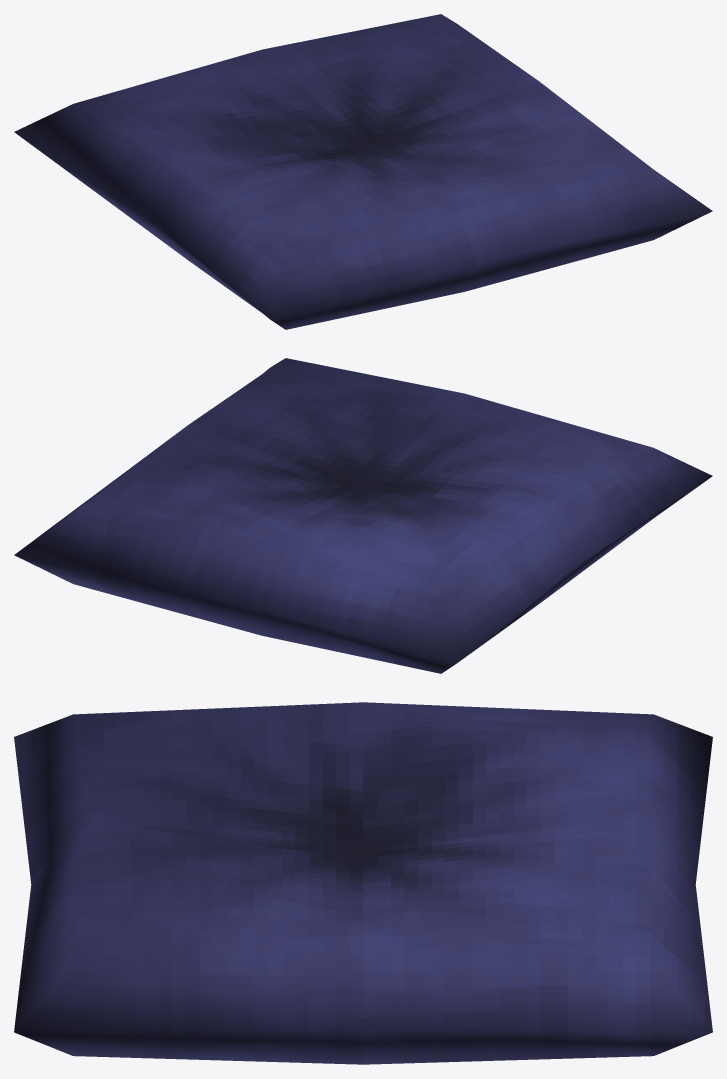
Rendered from zabuton.fbx.
The picture shows the model from 3 angles, top to bottom: view 1: azimuth 30°, elevation 25°; view 2: azimuth 150°, elevation 25°; view 3: azimuth 270°, elevation 25°; orthographic projection. The views are drawn at different scales.
Visible parts, largest first — view 1: zabuton; view 2: zabuton; view 3: zabuton.
Part boxes in pixels (box(x1,y1,x2,y2)): zabuton: box(14, 14, 712, 329); zabuton: box(14, 358, 712, 673); zabuton: box(14, 702, 712, 1064).
Bounding box in the file's own units: 80 × 16.31 × 80.
